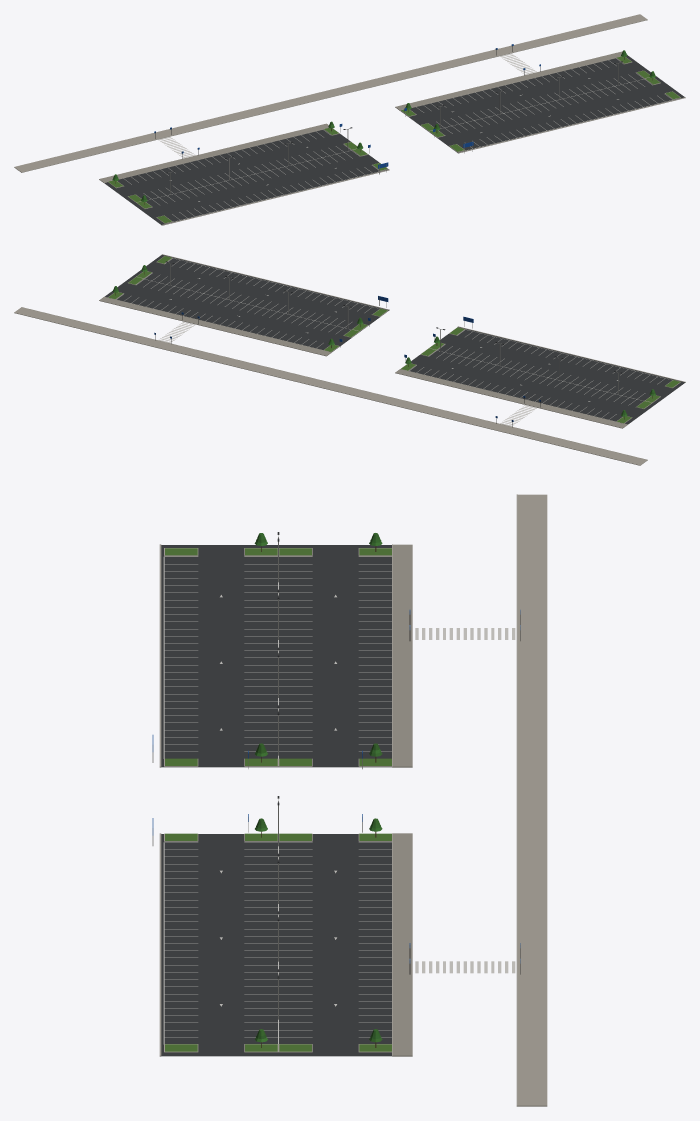
The model's file is ns_carpark.glb.
The picture shows the model from 3 angles, top to bottom: view 1: azimuth 30°, elevation 25°; view 2: azimuth 150°, elevation 25°; view 3: azimuth 270°, elevation 25°; orthographic projection. The views are drawn at different scales.
Parts seen in each view (by area): view 1: ns_carpark; view 2: ns_carpark; view 3: ns_carpark.
Boxes of the visible parts, x1,y1,x2,y2 form: ns_carpark: [14, 14, 685, 225]; ns_carpark: [14, 254, 685, 465]; ns_carpark: [152, 494, 547, 1106].
Size of the model in its own units: 220 by 7.75 by 60.05.
